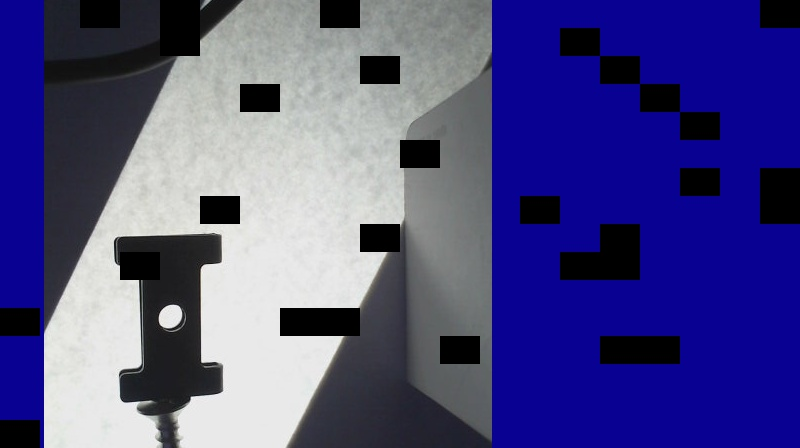O002: (113, 231, 223, 401)
S001: (134, 399, 195, 447)
